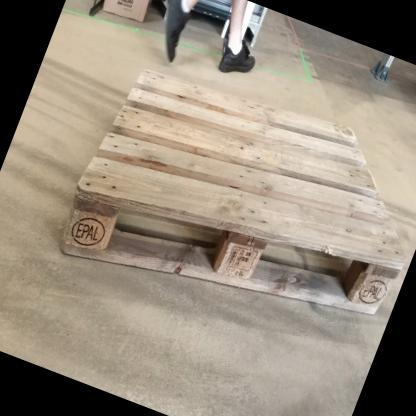BoxFace: (59, 67, 410, 323)
